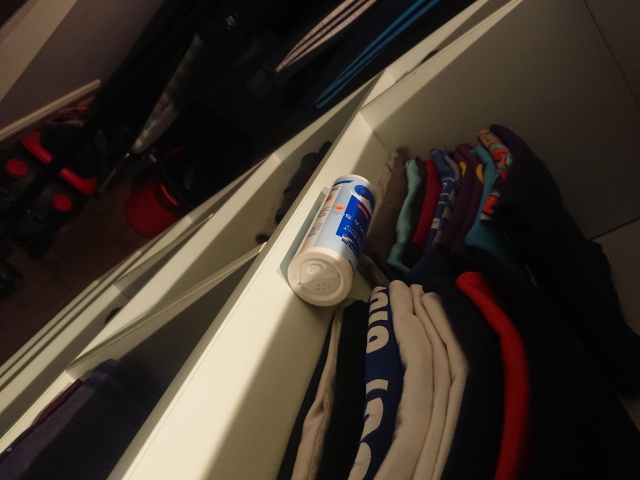Solana Pag Fine Sea Salt 250g: (285, 172, 381, 309)
